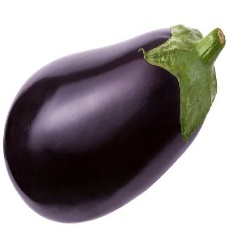eggplant: (7, 25, 210, 222)
